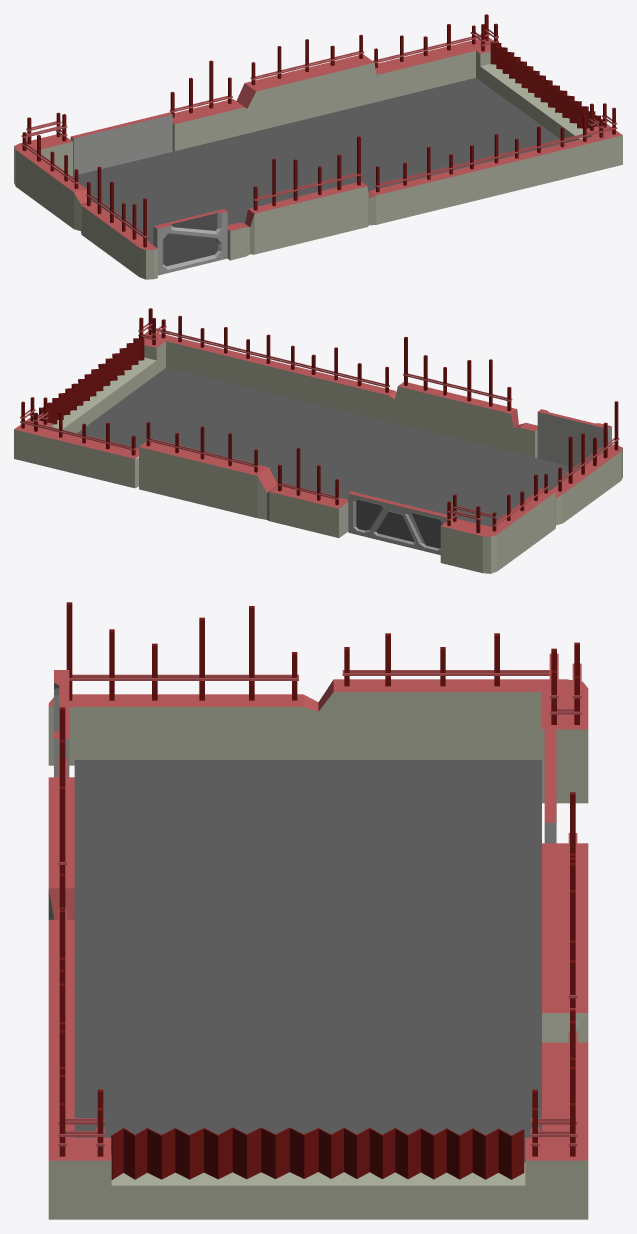
File: Foundations_20x10x10_19_6_2016.fbx
3 renders of one model, top to bottom at view 1: azimuth 30°, elevation 25°; view 2: azimuth 150°, elevation 25°; view 3: azimuth 270°, elevation 25°, orthographic. The views are drawn at different scales.
Parts seen in each view (by area): view 1: Foundations_20x10x10; view 2: Foundations_20x10x10; view 3: Foundations_20x10x10.
Part boxes in pixels (x1=…): Foundations_20x10x10: x1=14, y1=14, x2=622, y2=279; Foundations_20x10x10: x1=14, y1=308, x2=622, y2=573; Foundations_20x10x10: x1=48, y1=602, x2=588, y2=1219.
Bounding box in the file's own units: 2032 × 361 × 993.
